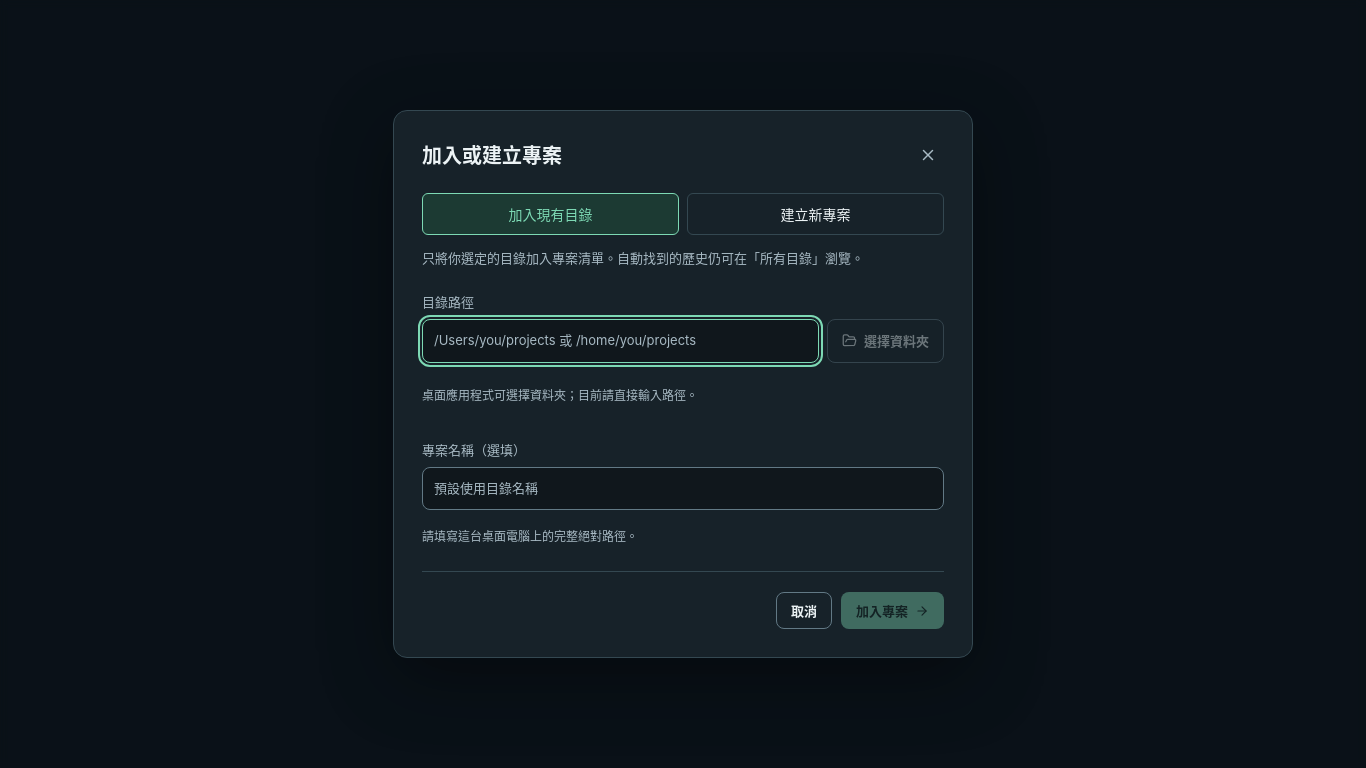
it: project dialog mutations › retries refresh without repeating a successful existing mutation
The image size is (1366, 768).
In the field labelled "目錄路徑": (620, 341) [422, 319, 819, 363], type "/synthetic/chosen"
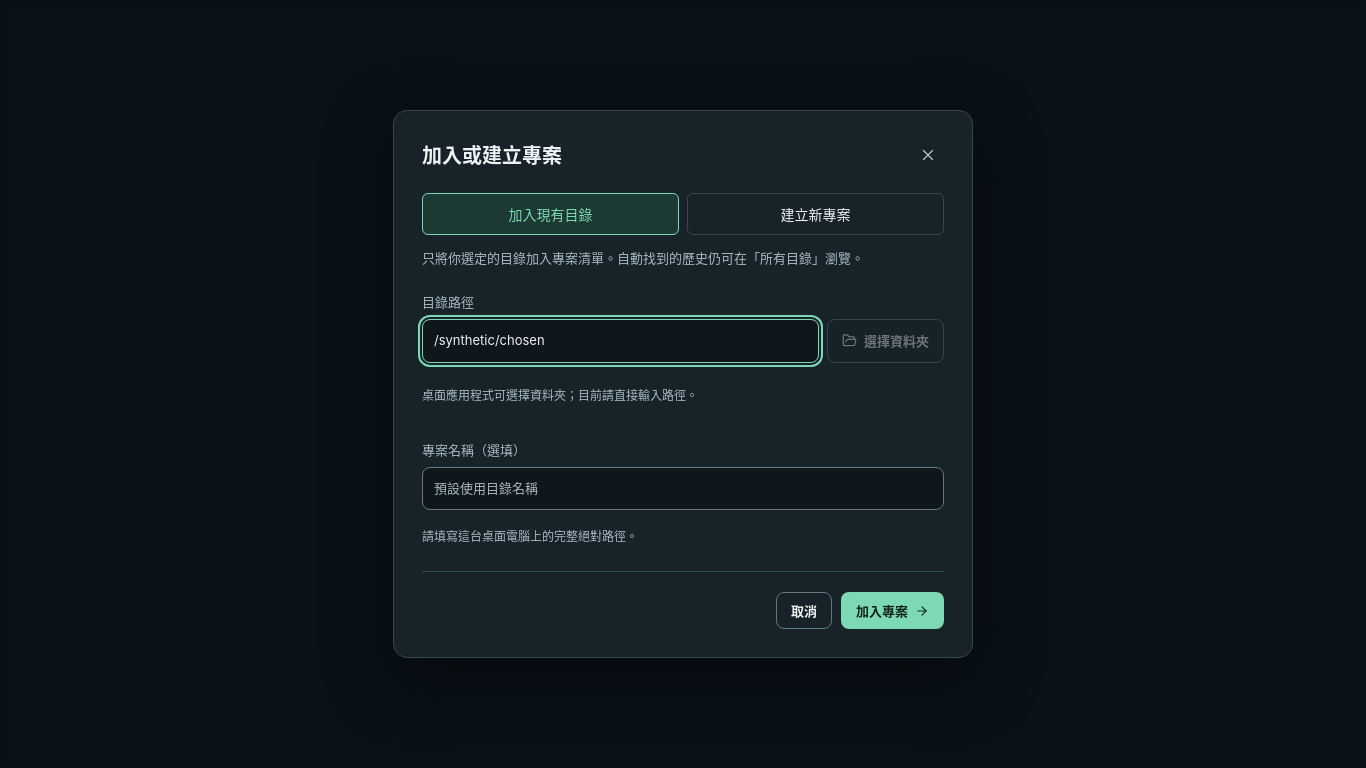
In the field labelled "專案名稱（選填）": (683, 488) [422, 467, 944, 510], type "chosen"
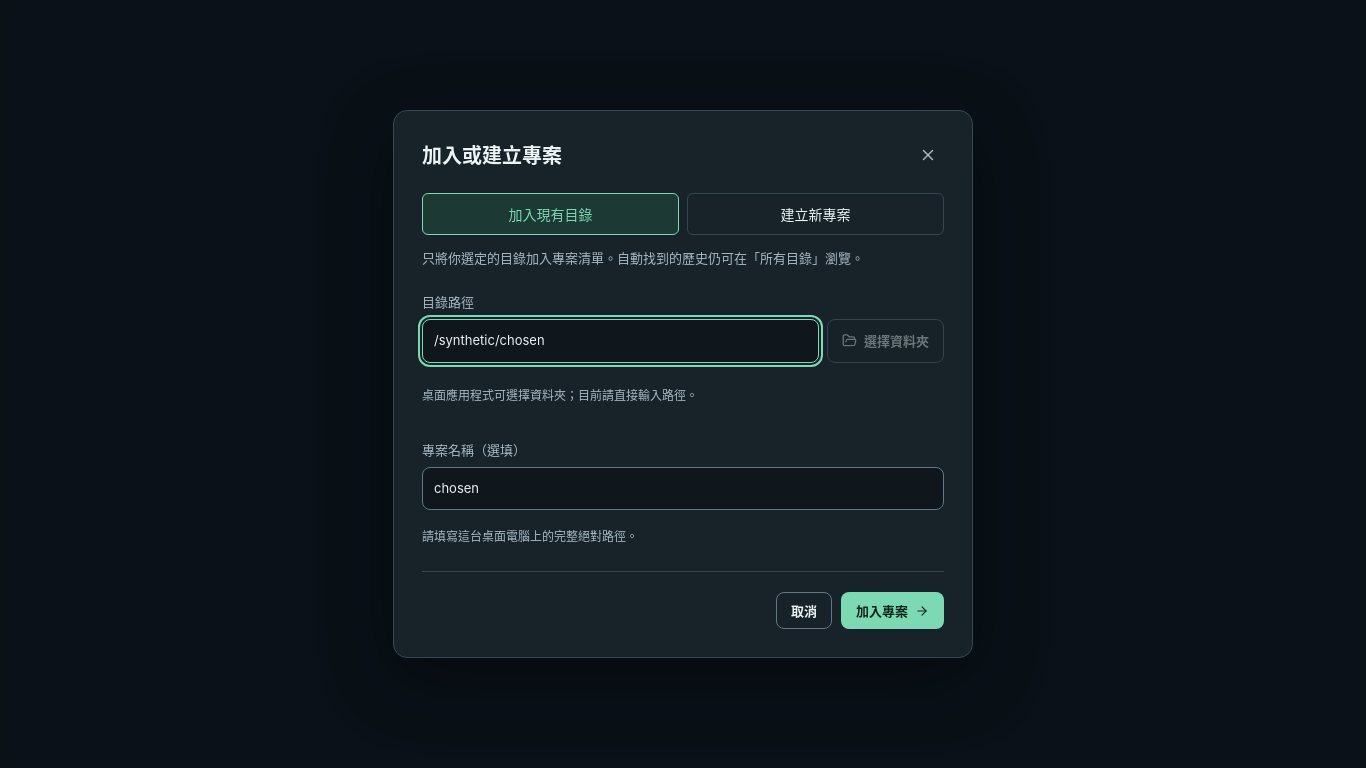
Click the button "加入專案": (892, 611) [841, 592, 944, 629]
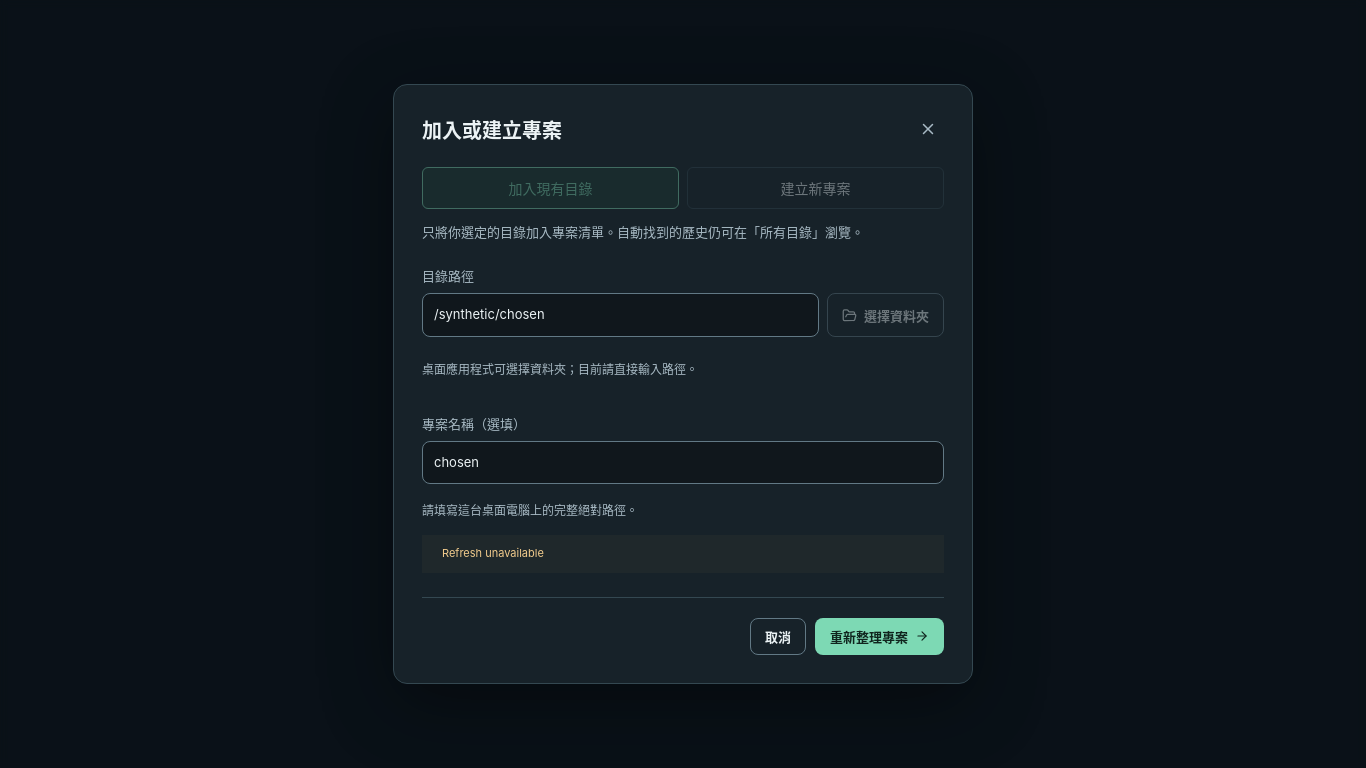
Expected: the message reads "Refresh unavailable", [442, 546, 544, 560]
Expected: the button "建立新專案" is disabled, [687, 167, 944, 209]
Expected: the field labelled "目錄路徑" is disabled, [422, 293, 819, 337]
Click the button "重新整理專案": (880, 636) [815, 618, 944, 655]
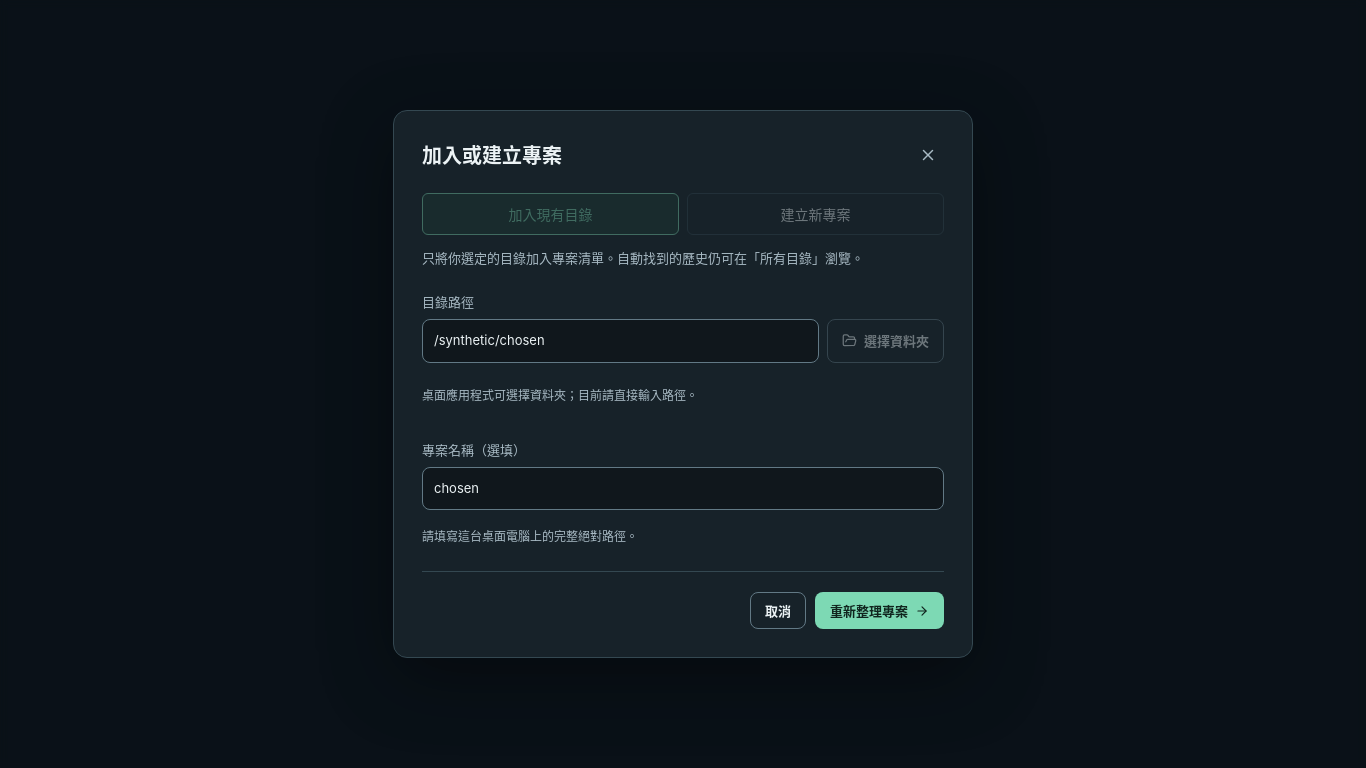
Expected: the message "Refresh unavailable" is gone
